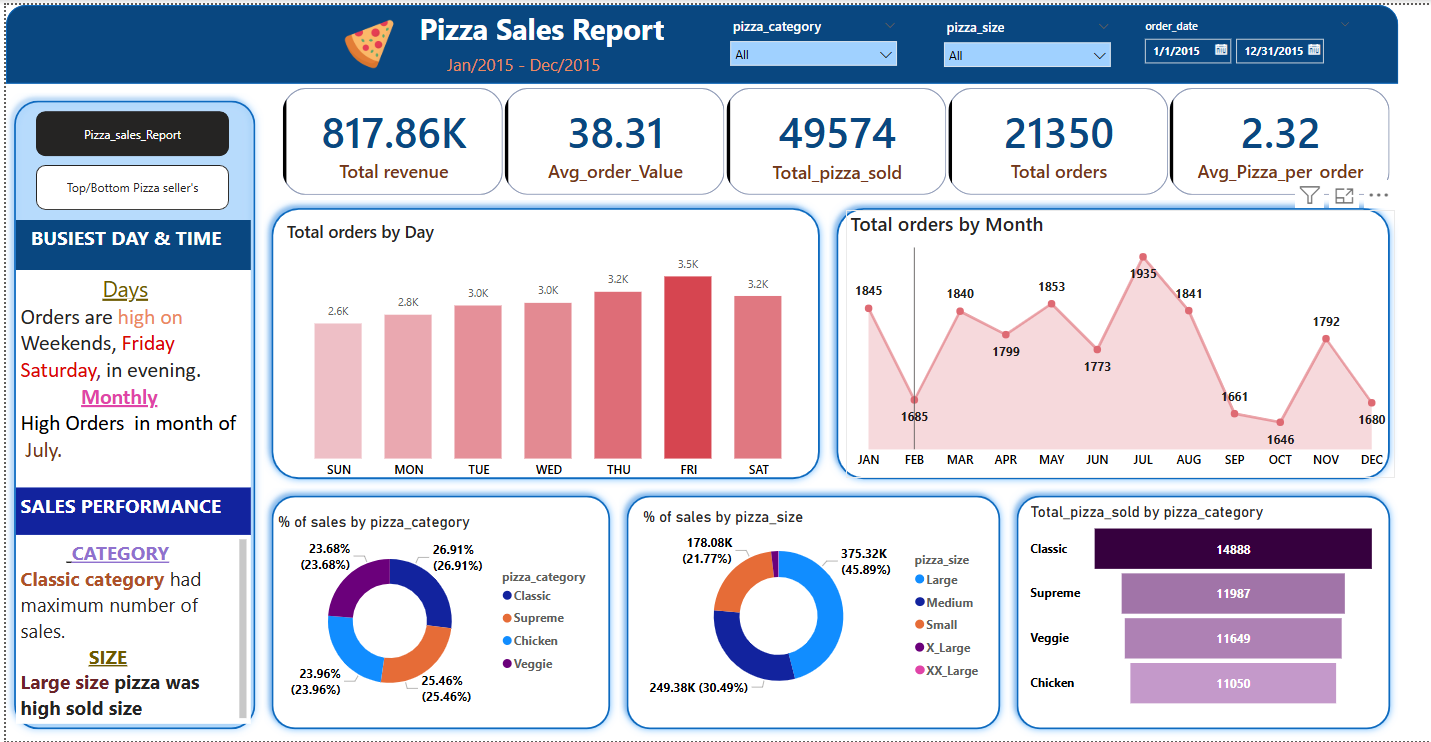

The dashboard page shown, as its layout file describes it:
{"tool":"powerbi","page":{"name":"Pizza_sales_Report","canvas":[1600,820],"ordinal":0},"visuals":[{"type":"cardVisual","fields":{"Data":["pizza_sales.Total revenue","pizza_sales.Avg_order_Value","pizza_sales.Total_pizza_sold","pizza_sales.Total orders","pizza_sales.Avg_Pizza_per_order"]},"box":[303.8,87.2,1247.1,129.4],"z":0},{"type":"shape","box":[0,0,1551.4,87.7],"z":1000},{"type":"textbox","box":[454.9,0,321.2,55.2],"z":2000},{"type":"textbox","box":[485.5,49.4,196.2,36.3],"z":3000},{"type":"image","box":[372.1,8.7,65.4,69.8],"z":4000},{"type":"shape","box":[286.9,217.3,629.5,320.3],"z":5000},{"type":"columnChart","title":"Total orders by Day","fields":{"Y":["pizza_sales.Total orders"],"Category":["pizza_sales.Order_day"]},"box":[307.8,239.5,594.7,298],"z":6000},{"type":"shape","box":[916.4,217.3,635.1,320.3],"z":7000},{"type":"areaChart","title":"Total orders by Month","fields":{"Category":["pizza_sales.Order_Month"],"Y":["pizza_sales.Total orders"]},"box":[935.9,228.4,611.4,298],"z":8000},{"type":"shape","box":[286.9,537.6,395.5,278.5],"z":9000},{"type":"donutChart","title":"% of sales by pizza_category","fields":{"Category":["pizza_sales.pizza_category"],"Y":["pizza_sales.Total revenue"]},"box":[298,565.4,374.6,222.8],"z":10000},{"type":"shape","box":[682.4,537.6,434.5,278.5],"z":11000},{"type":"shape","box":[1116.9,537.6,434.5,278.5],"z":12000},{"type":"donutChart","title":"% of sales by pizza_size","fields":{"Y":["pizza_sales.Total revenue"],"Category":["pizza_sales.pizza_size"]},"box":[704.7,559.9,395.5,222.8],"z":13000},{"type":"funnel","fields":{"Y":["pizza_sales.Total_pizza_sold"],"Category":["pizza_sales.pizza_category"]},"box":[1136.4,554.3,395.5,234],"z":14000},{"type":"shape","box":[0,97.5,286.9,718.6],"z":15000},{"type":"textbox","box":[11.1,239.5,261.8,55.7],"z":16000},{"type":"textbox","box":[11.1,295.2,261.8,242],"z":17000},{"type":"textbox","box":[11.1,590.5,261.8,210.3],"z":18000},{"type":"textbox","box":[11.1,537.6,261.8,52.9],"z":19000},{"type":"slicer","fields":{"Values":["pizza_sales.pizza_category"]},"box":[796.5,8.7,206.4,69.8],"z":20000},{"type":"slicer","fields":{"Values":["pizza_sales.order_date"]},"box":[1255.8,10.2,252.9,69.8],"z":21000},{"type":"slicer","fields":{"Values":["pizza_sales.pizza_size"]},"box":[1034.9,10.2,206.4,69.8],"z":22000},{"type":"pageNavigator","box":[33.9,118.6,216,50.8],"z":22001},{"type":"pageNavigator","box":[33.9,177.8,216,50.8],"z":22002}]}

Visuals, with their boxes in screenshot pixels (x1, y1, x2, y2), scaled from the page's 1600x820 canvas onto the 1431x742 screenshot:
cardVisual - pizza_sales.Total revenue x pizza_sales.Avg_order_Value: box=[272, 79, 1387, 196]
shape: box=[0, 0, 1388, 79]
textbox: box=[407, 0, 694, 50]
textbox: box=[434, 45, 610, 78]
image: box=[333, 8, 391, 71]
shape: box=[257, 197, 820, 486]
"Total orders by Day" columnChart: box=[275, 217, 807, 486]
shape: box=[820, 197, 1388, 486]
"Total orders by Month" areaChart: box=[837, 207, 1384, 476]
shape: box=[257, 486, 610, 738]
"% of sales by pizza_category" donutChart: box=[267, 512, 602, 713]
shape: box=[610, 486, 999, 738]
shape: box=[999, 486, 1388, 738]
"% of sales by pizza_size" donutChart: box=[630, 507, 984, 708]
funnel - pizza_sales.Total_pizza_sold x pizza_sales.pizza_category: box=[1016, 502, 1370, 713]
shape: box=[0, 88, 257, 738]
textbox: box=[10, 217, 244, 267]
textbox: box=[10, 267, 244, 486]
textbox: box=[10, 534, 244, 725]
textbox: box=[10, 486, 244, 534]
slicer - pizza_sales.pizza_category: box=[712, 8, 897, 71]
slicer - pizza_sales.order_date: box=[1123, 9, 1349, 72]
slicer - pizza_sales.pizza_size: box=[926, 9, 1110, 72]
pageNavigator: box=[30, 107, 224, 153]
pageNavigator: box=[30, 161, 224, 207]
